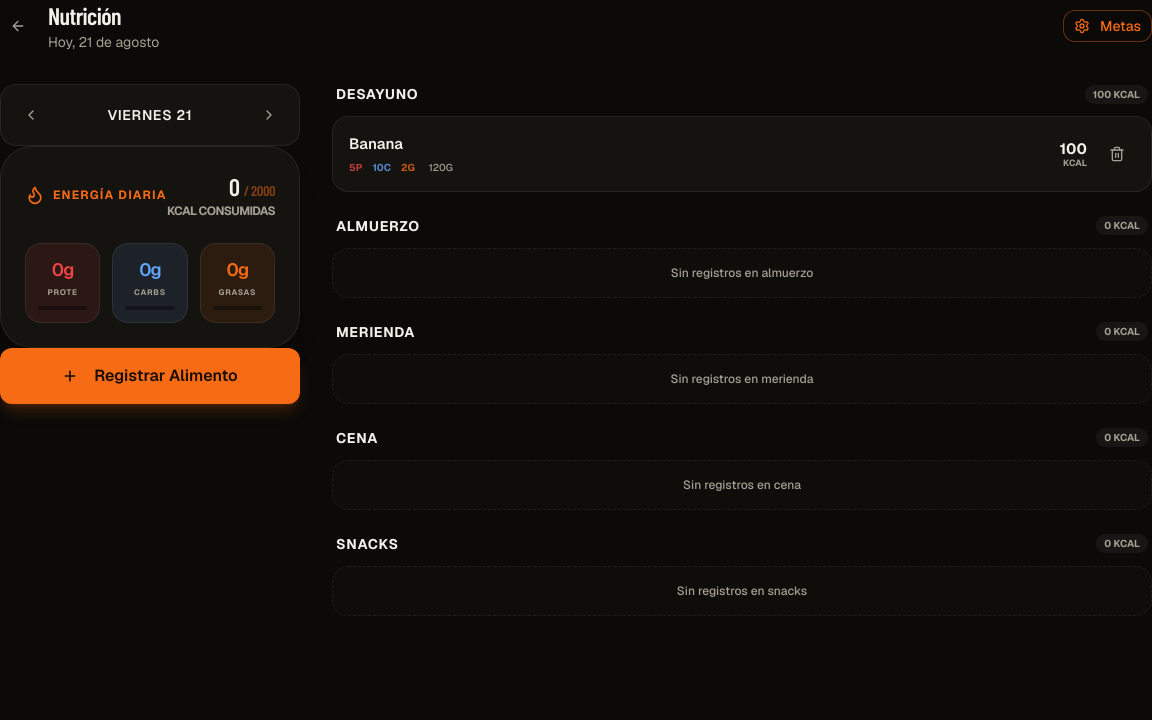
Test: nutrition diary — deleting an entry › keeps the entry when the confirmation is dismissed
The image size is (1152, 720).
What coordinates should you click on to do the following:
click the button named "Eliminar"
I would click on:
 (1117, 154)
Its box is [1099,136,1135,172].
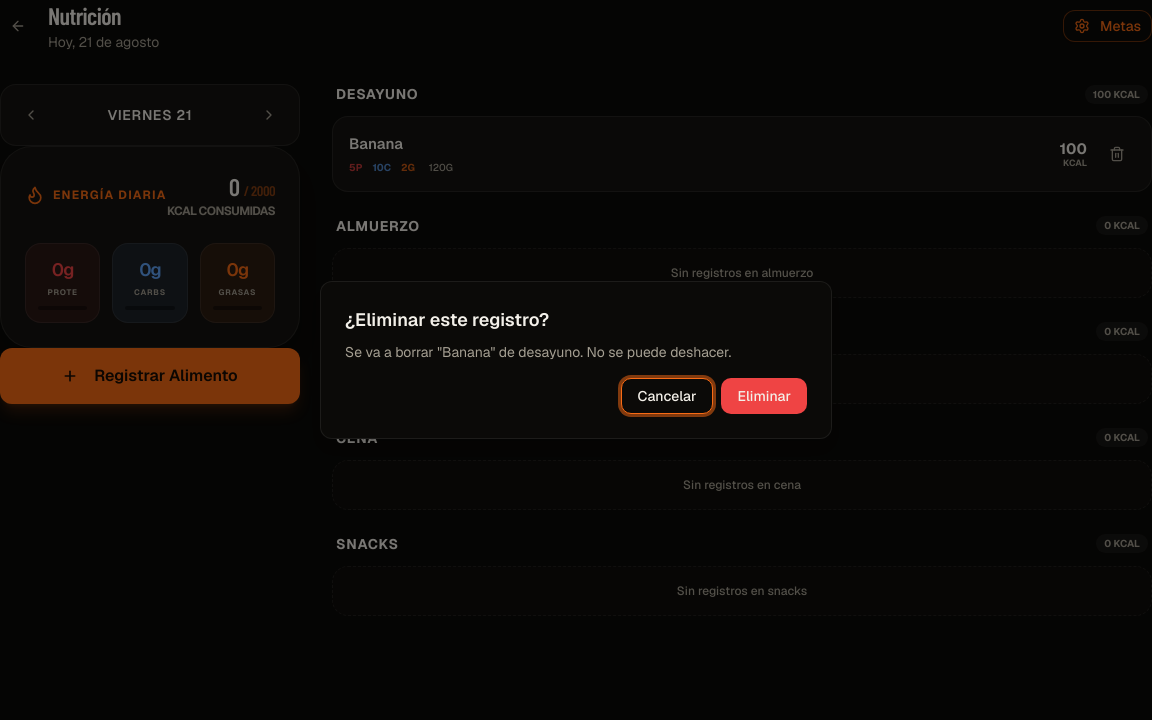
What coordinates should you click on to do the following:
click the button "Cancelar"
I would click on:
 (667, 396)
Its box is [620,378,713,414].
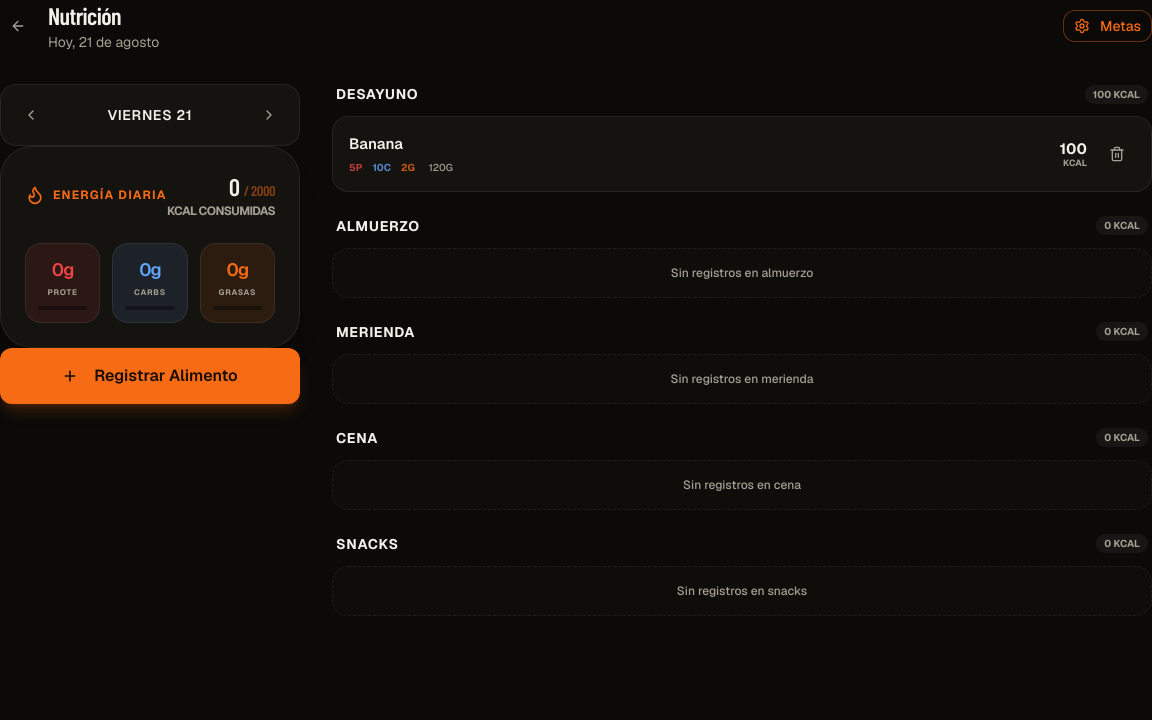
Expected: the text "Banana" is shown, [349,134,403,153]
Expected: the heading "¿Eliminar" is gone
